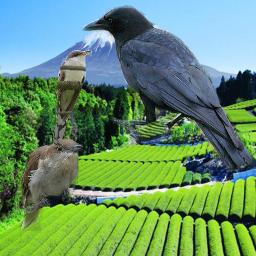Crow: (81, 5, 254, 173)
Cuckoo: (18, 137, 83, 231), (53, 50, 92, 147)
